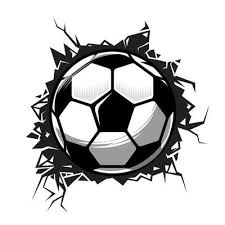football ball: (50, 52, 177, 175)
